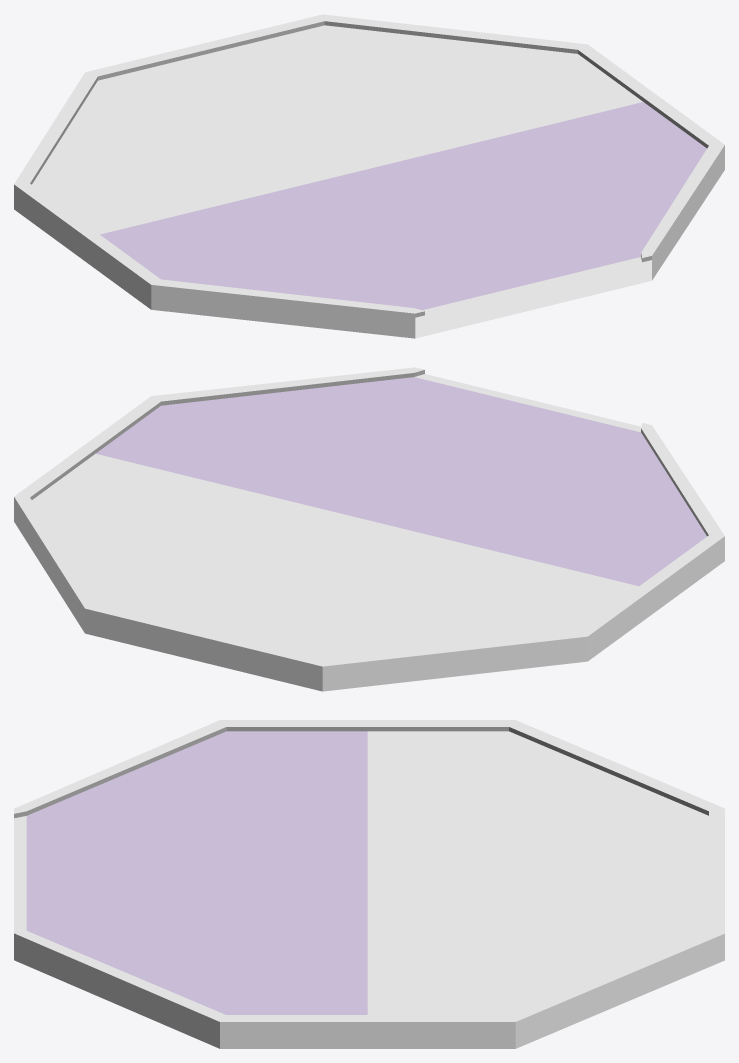
The model's file is Road_Last.fbx.
The picture shows the model from 3 angles, top to bottom: view 1: azimuth 30°, elevation 25°; view 2: azimuth 150°, elevation 25°; view 3: azimuth 270°, elevation 25°; orthographic projection. The views are drawn at different scales.
Visible parts, largest first — view 1: Cylinder; view 2: Cylinder; view 3: Cylinder.
Part boxes in pixels (left/top/right/bottom): Cylinder: left=14, top=14, right=724, bottom=338; Cylinder: left=14, top=367, right=724, bottom=691; Cylinder: left=14, top=720, right=724, bottom=1048.
Bounding box in the file's own units: 29.07 × 1.21 × 28.94.
